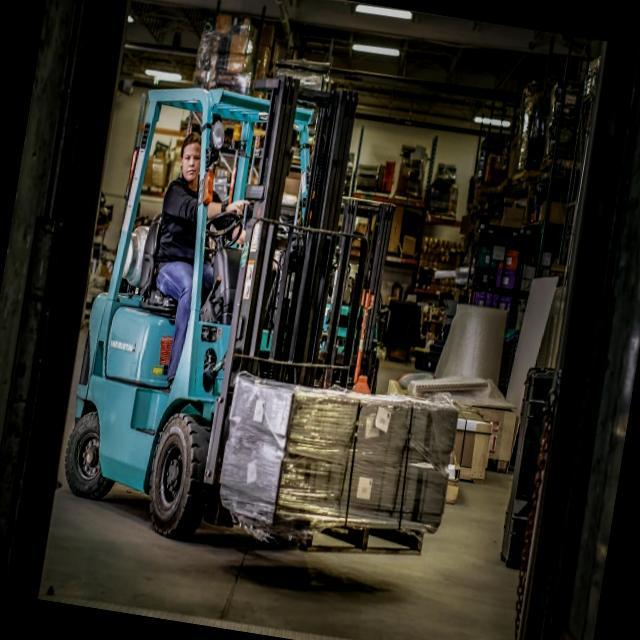driver: (146, 130, 231, 327)
forklift: (49, 16, 390, 576)
